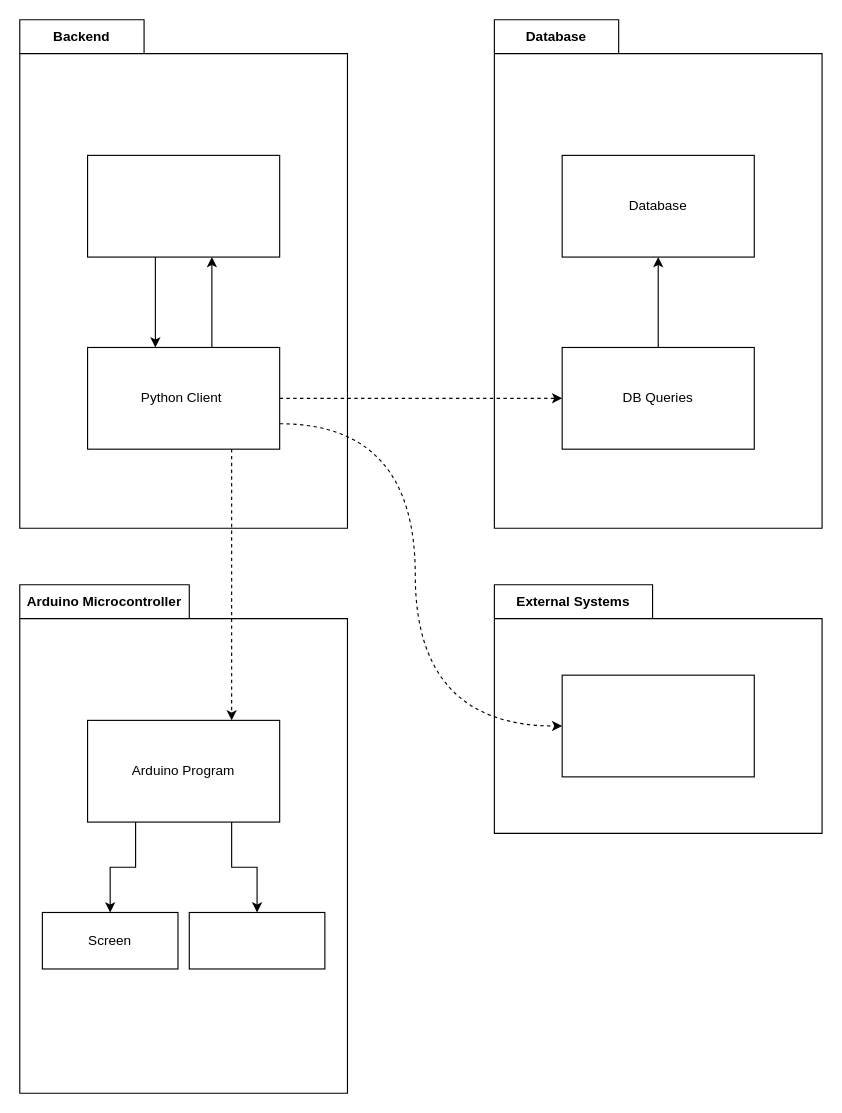
This 842x1113 diagram has some shape labels left out. The centre of each missing label's shape, as x and y in pixels:
"Google Calendar API" goes at point (657, 725).
"llama.cpp API" goes at point (183, 205).
"Other Components" goes at point (256, 940).
